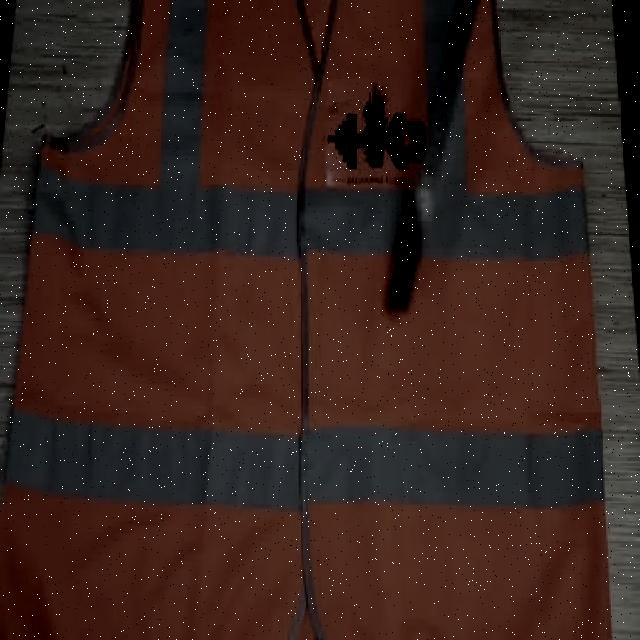Mask: (0, 0, 614, 638)
